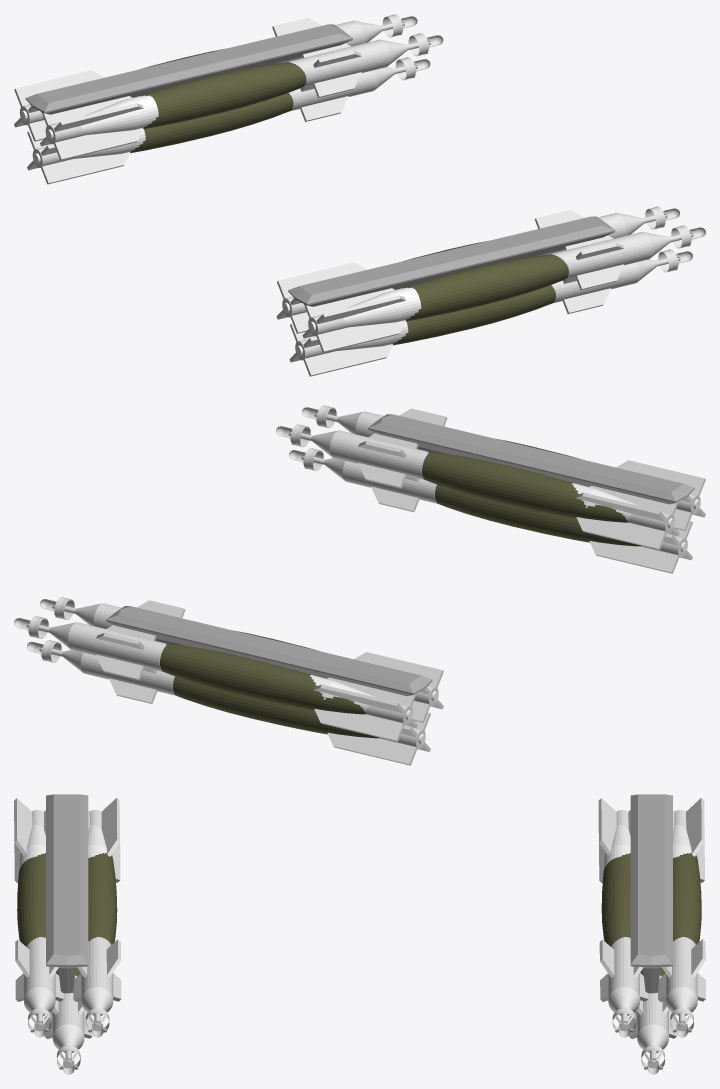
File: f16gbu12231.glb
3 views of the same model, one above another, from view 1: azimuth 30°, elevation 25°; view 2: azimuth 150°, elevation 25°; view 3: azimuth 270°, elevation 25° (orthographic). The views are drawn at different scales.
Parts seen in each view (by area): view 1: 円柱.008, 円柱.011, 円柱.013, 円柱.010, 立方体.003, 立方体.004, 円柱.012, 円柱.009; view 2: 円柱.012, 円柱.009, 円柱.010, 円柱.013, 立方体.004, 立方体.003, 円柱.011, 円柱.008; view 3: 立方体.004, 立方体.003, 円柱.012, 円柱.009, 円柱.008, 円柱.011, 円柱.013, 円柱.010.
Boxes of the visible parts, x1=… form: 円柱.008: x1=40, y1=33, x2=443, y2=160; 円柱.011: x1=302, y1=225, x2=705, y2=352; 円柱.013: x1=289, y1=249, x2=692, y2=376; 円柱.010: x1=27, y1=57, x2=430, y2=184; 立方体.003: x1=25, y1=24, x2=352, y2=114; 立方体.004: x1=288, y1=216, x2=615, y2=306; 円柱.012: x1=276, y1=206, x2=679, y2=333; 円柱.009: x1=14, y1=14, x2=417, y2=141; 円柱.012: x1=276, y1=424, x2=679, y2=549; 円柱.009: x1=14, y1=616, x2=417, y2=741; 円柱.010: x1=27, y1=640, x2=430, y2=765; 円柱.013: x1=289, y1=448, x2=692, y2=573; 立方体.004: x1=368, y1=414, x2=694, y2=504; 立方体.003: x1=106, y1=606, x2=432, y2=696; 円柱.011: x1=302, y1=405, x2=705, y2=530; 円柱.008: x1=40, y1=597, x2=443, y2=722; 立方体.004: x1=46, y1=794, x2=88, y2=993; 立方体.003: x1=630, y1=794, x2=672, y2=993; 円柱.012: x1=73, y1=798, x2=121, y2=1037; 円柱.009: x1=658, y1=798, x2=705, y2=1037; 円柱.008: x1=598, y1=798, x2=648, y2=1037; 円柱.011: x1=14, y1=798, x2=63, y2=1037; 円柱.013: x1=44, y1=968, x2=92, y2=1074; 円柱.010: x1=629, y1=968, x2=676, y2=1074.
Bounding box in the file's own units: 3.71 × 0.7058 × 5.02.
4 materials, 1 textured.
